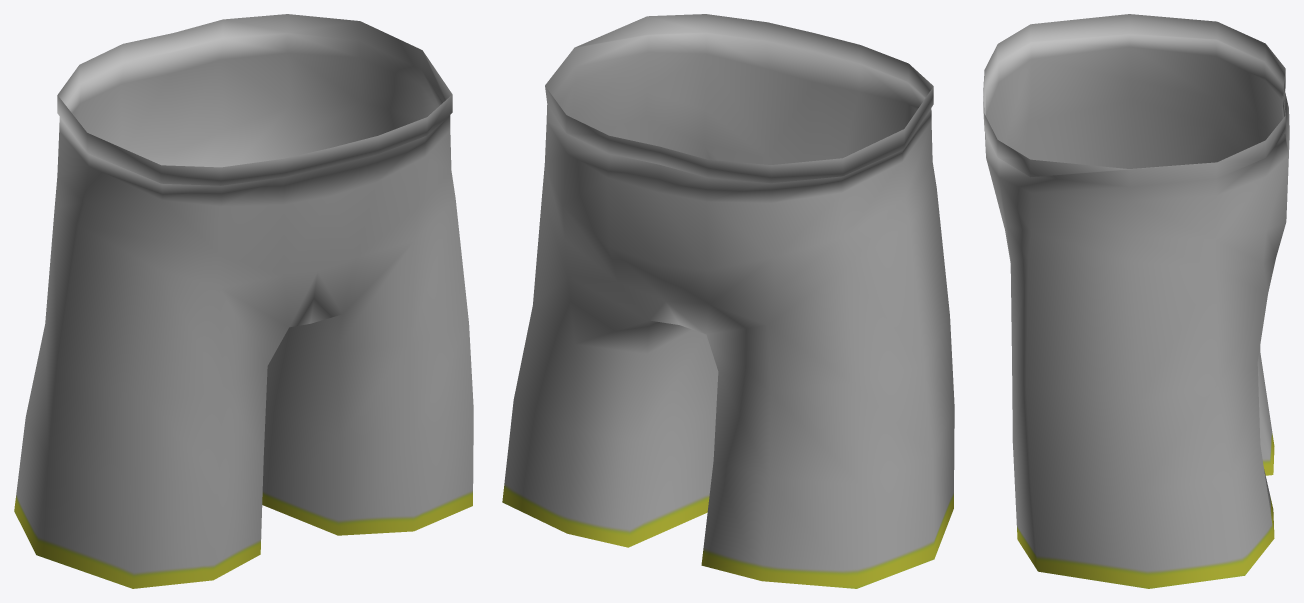
File: male_jersey_shorts.fbx
The picture shows the model from 3 angles, left to right: view 1: azimuth 30°, elevation 25°; view 2: azimuth 150°, elevation 25°; view 3: azimuth 270°, elevation 25°; orthographic projection. The views are drawn at different scales.
Parts seen in each view (by area): view 1: male_character.stylistic.shorts; view 2: male_character.stylistic.shorts; view 3: male_character.stylistic.shorts.
Boxes of the visible parts, x1,y1,x2,y2 form: male_character.stylistic.shorts: (14, 14, 473, 588); male_character.stylistic.shorts: (502, 14, 954, 588); male_character.stylistic.shorts: (983, 14, 1289, 588).
Size of the model in its own units: 60.49 by 62.55 by 41.81.
